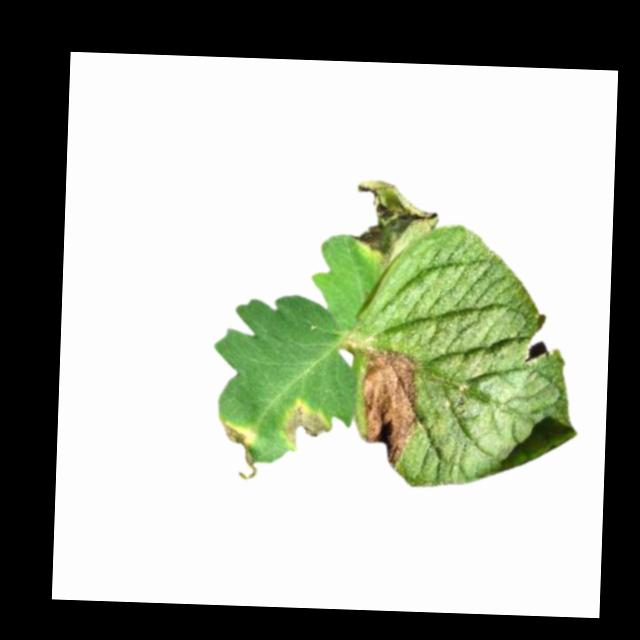Late_blight: (351, 177, 443, 268), (359, 347, 422, 468), (218, 416, 261, 481), (283, 395, 330, 451)
